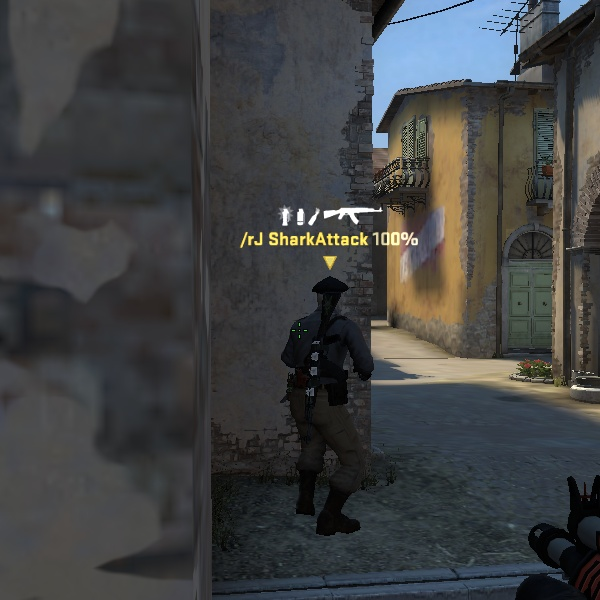ct_head: (303, 271, 359, 323)
t_body: (257, 274, 400, 534)
